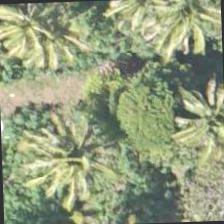Kelapa_Sawit: (27, 113, 120, 206), (2, 1, 95, 78), (141, 0, 222, 68), (170, 77, 223, 171)
